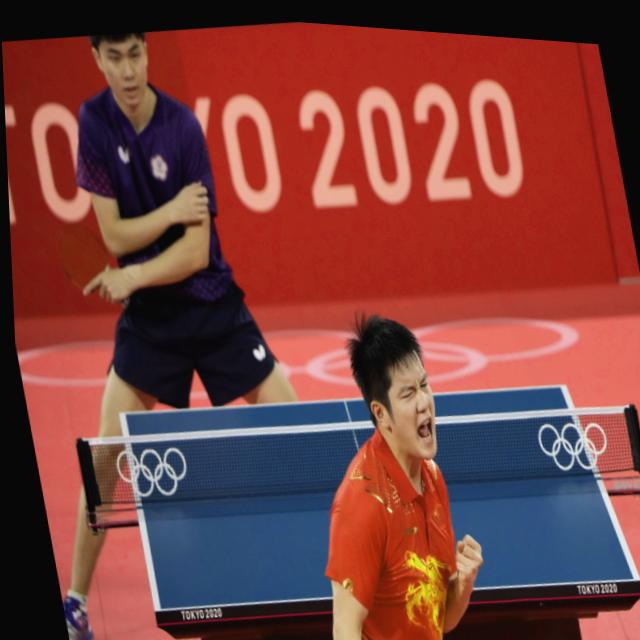TT Net: (72, 402, 640, 511)
TT Racket: (52, 218, 115, 296)
TT Table: (121, 385, 640, 612)
